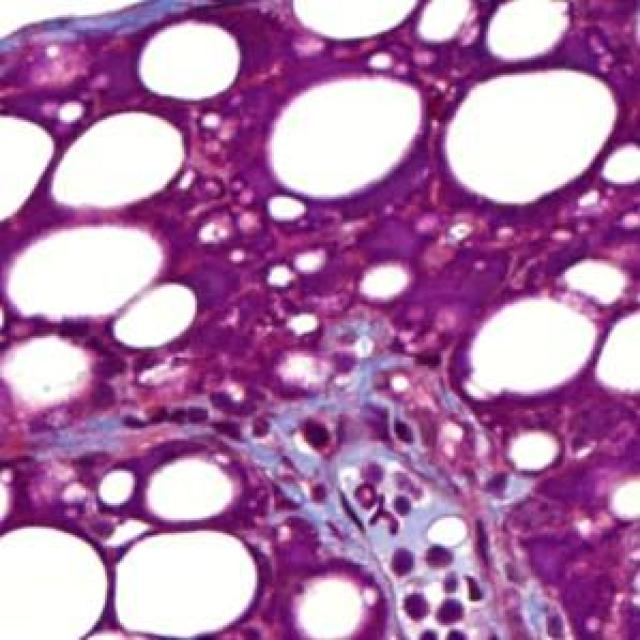steatosis: (250, 62, 434, 195), (449, 56, 606, 210), (103, 529, 270, 638), (465, 291, 597, 409), (8, 218, 165, 312), (54, 113, 192, 210), (130, 19, 242, 101), (116, 282, 199, 374), (133, 452, 242, 522), (300, 567, 372, 640)
